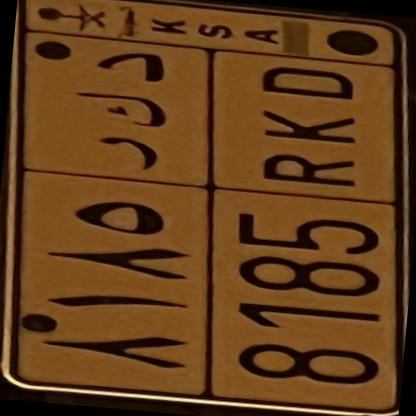english: (193, 47, 404, 416)
